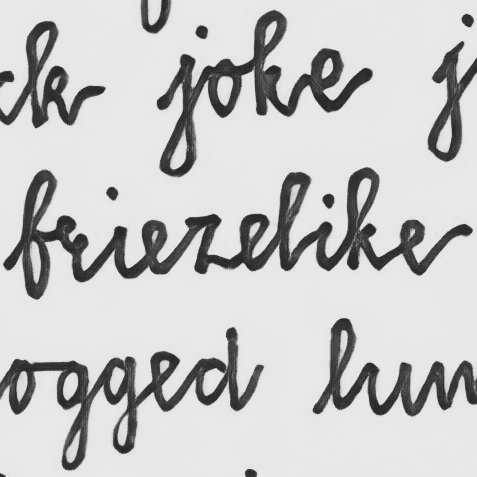e: (395, 216, 443, 278), (237, 210, 271, 273), (137, 217, 172, 277)
f: (18, 168, 59, 302)
i: (104, 184, 132, 282), (313, 192, 339, 273)
k: (343, 166, 385, 275)
l: (273, 169, 312, 272)
r: (53, 212, 91, 284)
z: (181, 210, 229, 277)
